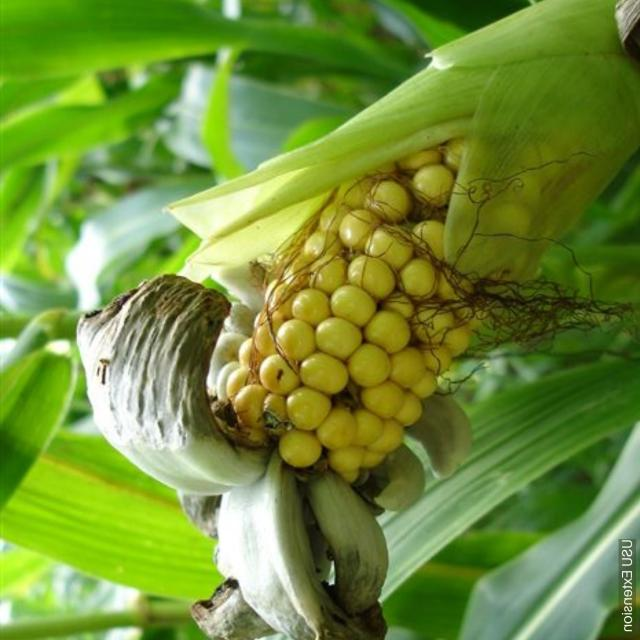Leaf_Scald: (51, 128, 602, 640)
